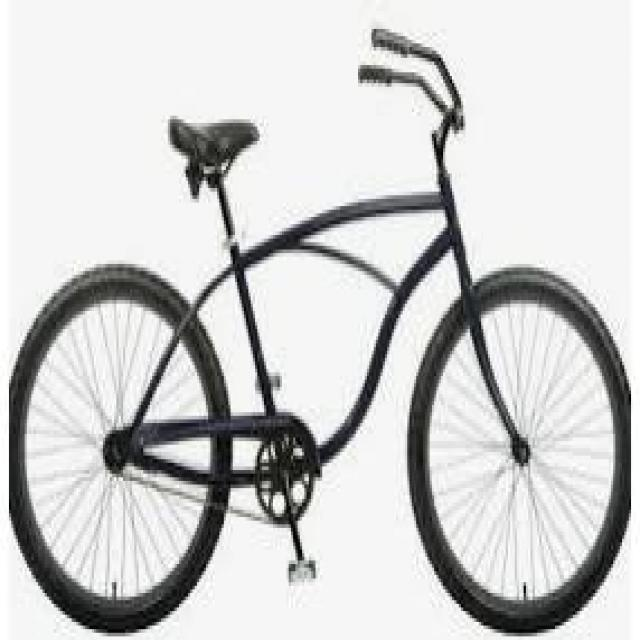bicycle: (39, 30, 632, 612)
